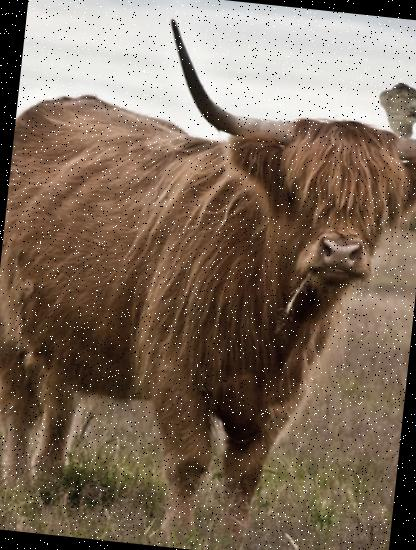Ginger: (368, 80, 416, 143)
